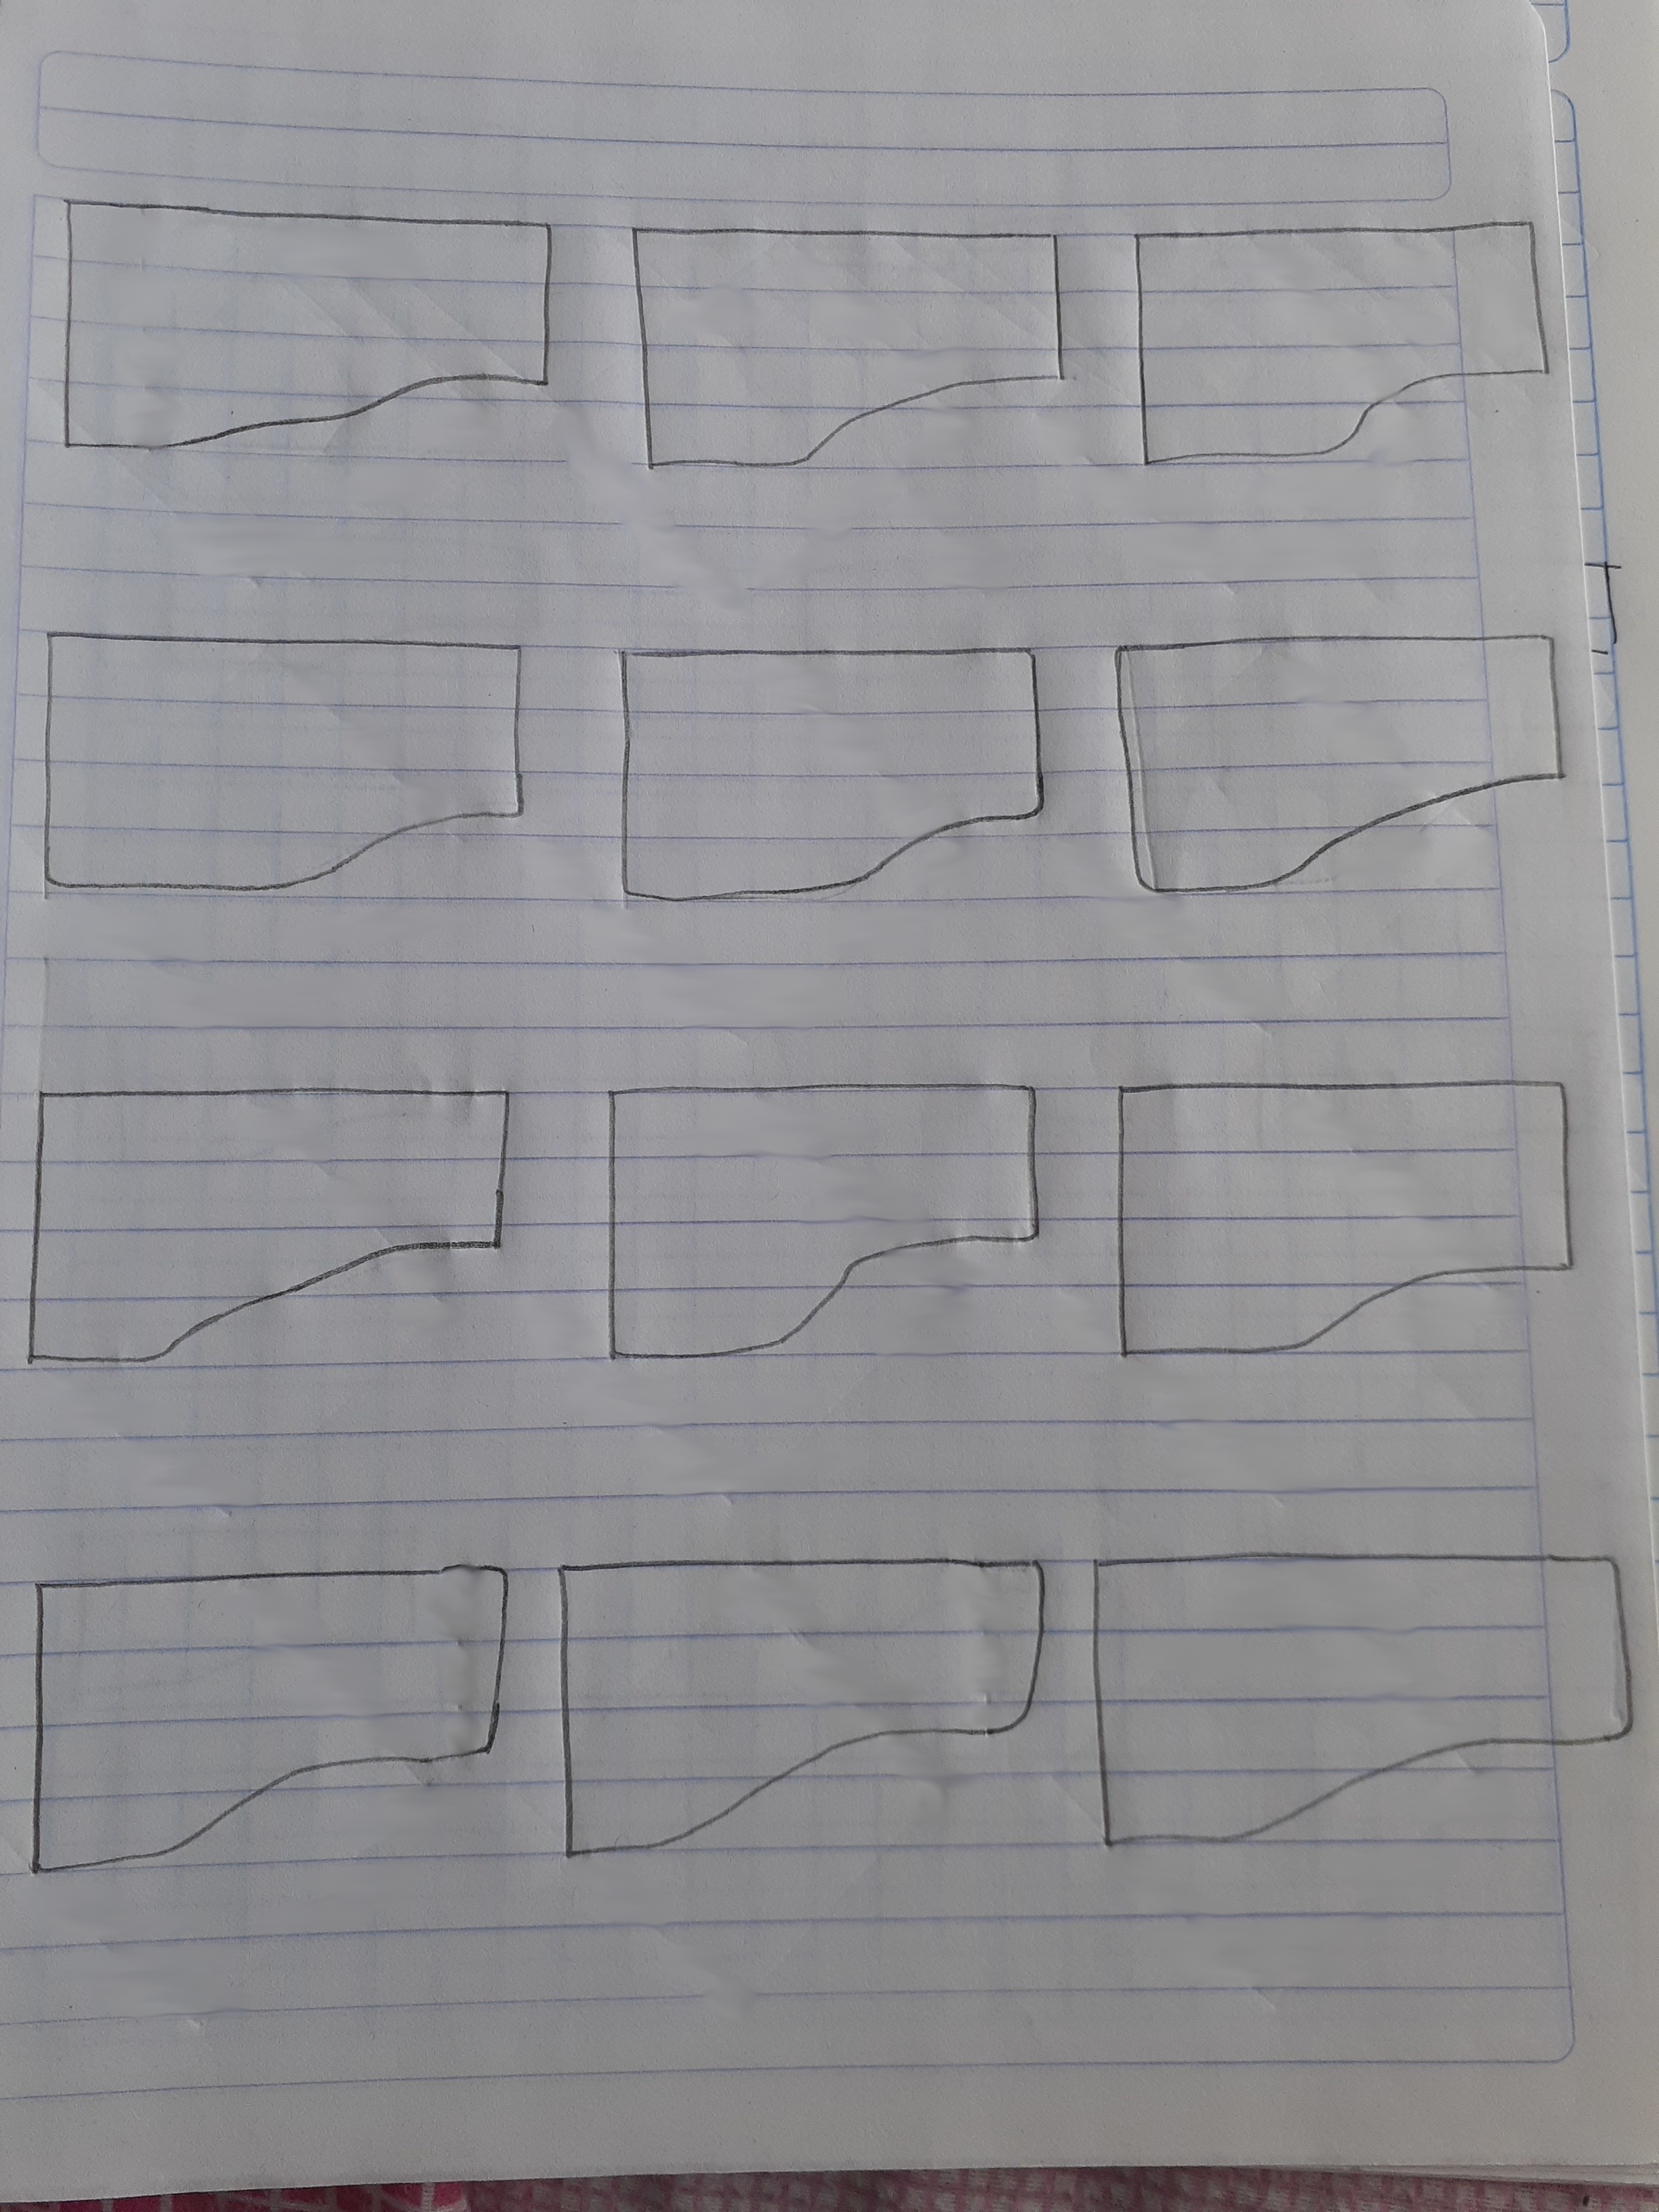print: (1086, 1512, 1650, 1869), (17, 1536, 537, 1892), (556, 1515, 1058, 1876), (1094, 1031, 1596, 1381), (28, 597, 537, 937), (17, 1055, 533, 1390), (45, 160, 563, 479), (613, 171, 1072, 503), (587, 1049, 1051, 1374), (1112, 192, 1567, 507), (598, 615, 1054, 920), (1105, 608, 1577, 895)
